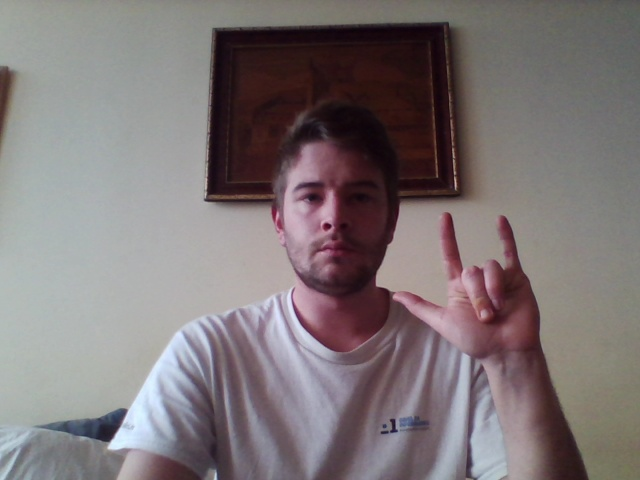volimte: (391, 208, 543, 358)
